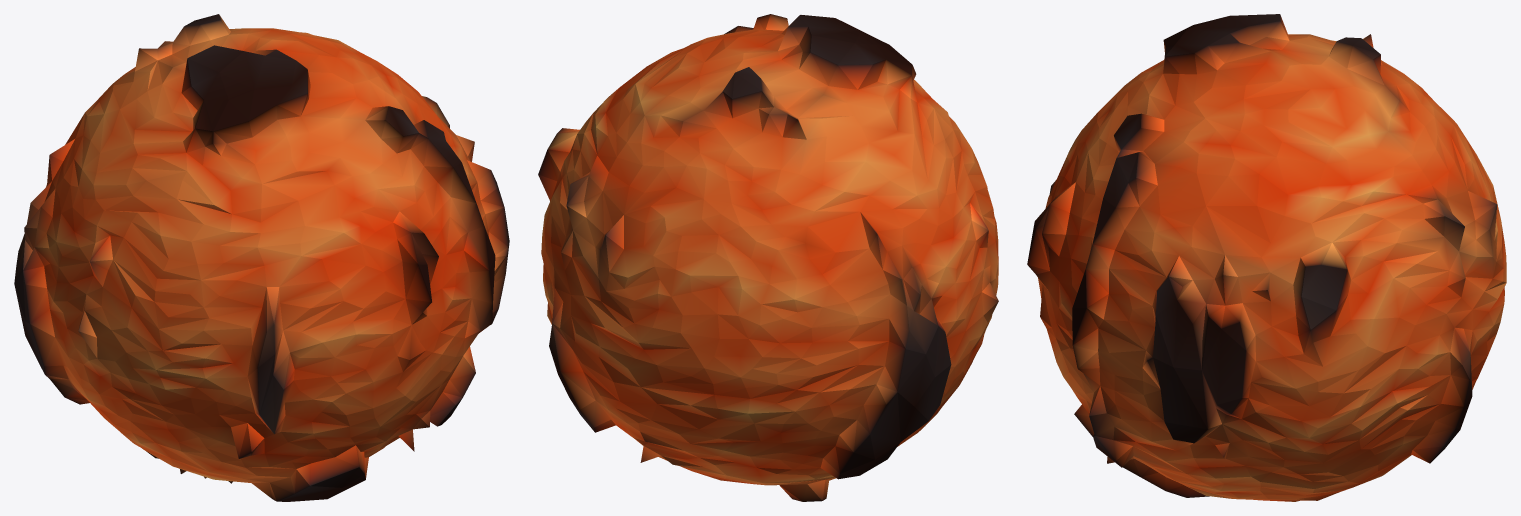
Rendered from barren_22.fbx.
3 views of the same model, side by side, from view 1: azimuth 30°, elevation 25°; view 2: azimuth 150°, elevation 25°; view 3: azimuth 270°, elevation 25° (orthographic). The views are drawn at different scales.
Visible parts, largest first — view 1: filecache1; view 2: filecache1; view 3: filecache1.
Boxes of the visible parts, x1=… form: filecache1: x1=14, y1=14, x2=509, y2=501; filecache1: x1=538, y1=14, x2=998, y2=501; filecache1: x1=1027, y1=14, x2=1506, y2=501.
Size of the model in its own units: 2.14 by 2.17 by 2.06.
